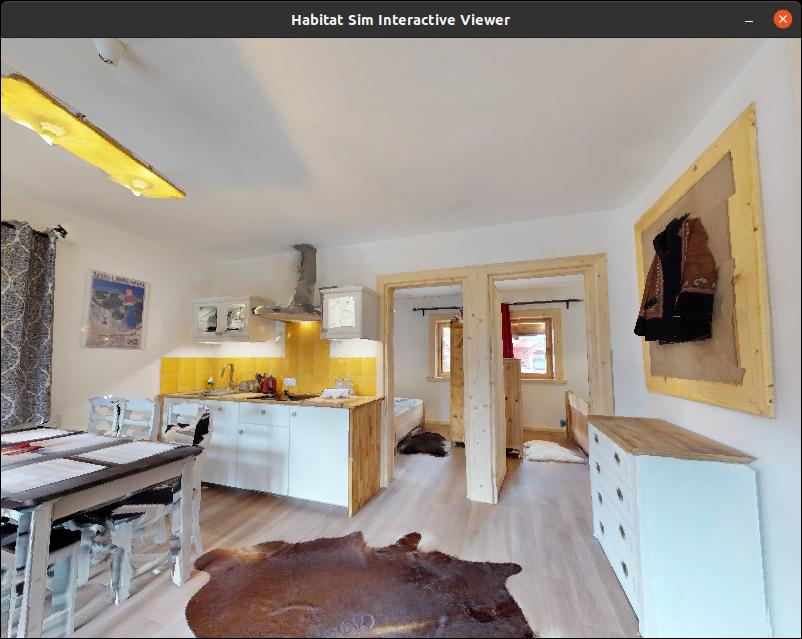door-frame: (489, 263, 606, 502), (381, 293, 477, 488)
table: (0, 405, 219, 616)
